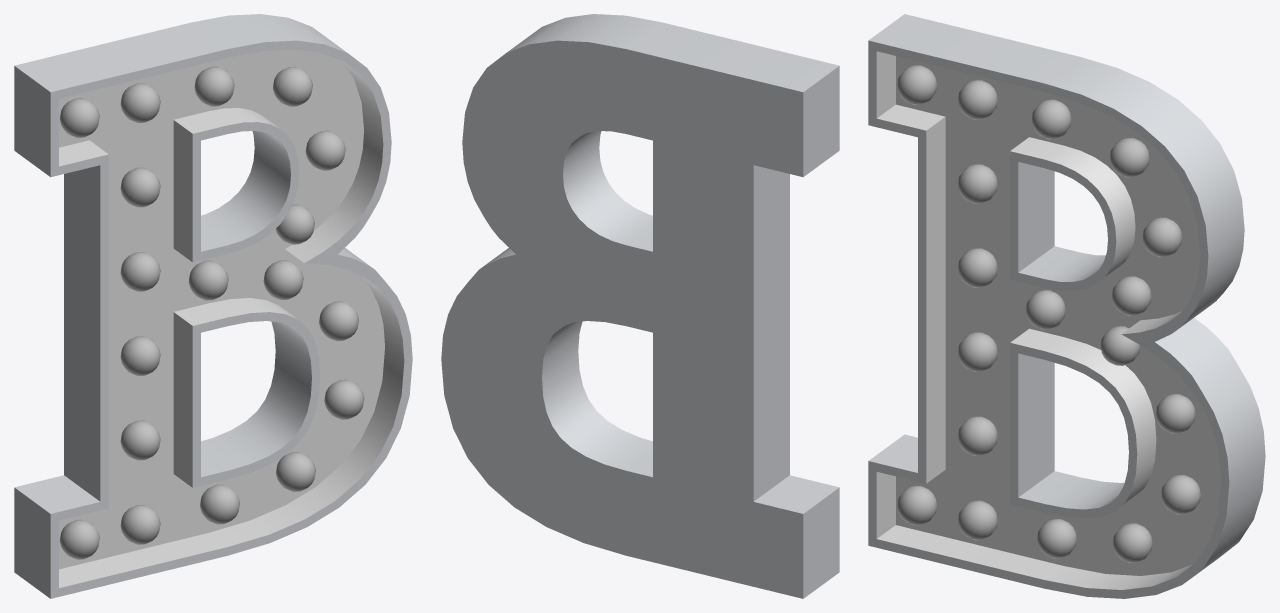
The model's file is LettersBulb01_B.FBX.
3 renders of one model, left to right at view 1: azimuth 30°, elevation 25°; view 2: azimuth 150°, elevation 25°; view 3: azimuth 330°, elevation 25°, orthographic.
Visible parts, largest first — view 1: LettersBulb01_B; view 2: LettersBulb01_B; view 3: LettersBulb01_B.
Boxes of the visible parts, left/top/right/bottom form: LettersBulb01_B: left=14, top=14, right=412, bottom=598; LettersBulb01_B: left=441, top=14, right=839, bottom=598; LettersBulb01_B: left=868, top=14, right=1265, bottom=598.
Size of what is drawn, in the model's own units: 0.8938 by 1.2 by 0.1563.
